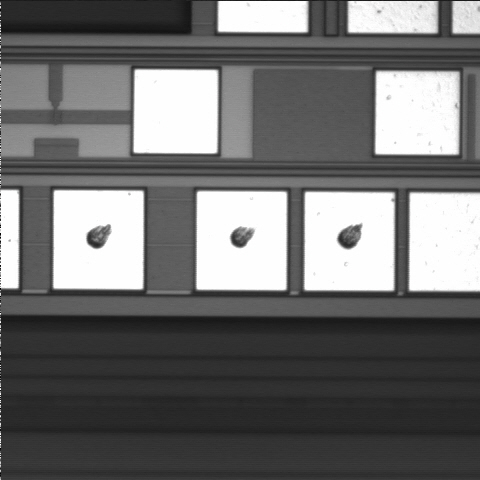pad: (53, 190, 143, 289), (197, 191, 287, 290), (304, 192, 394, 290), (134, 70, 218, 153), (375, 72, 459, 154)
